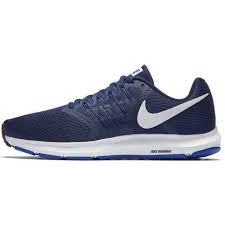nike: (135, 91, 210, 129)
